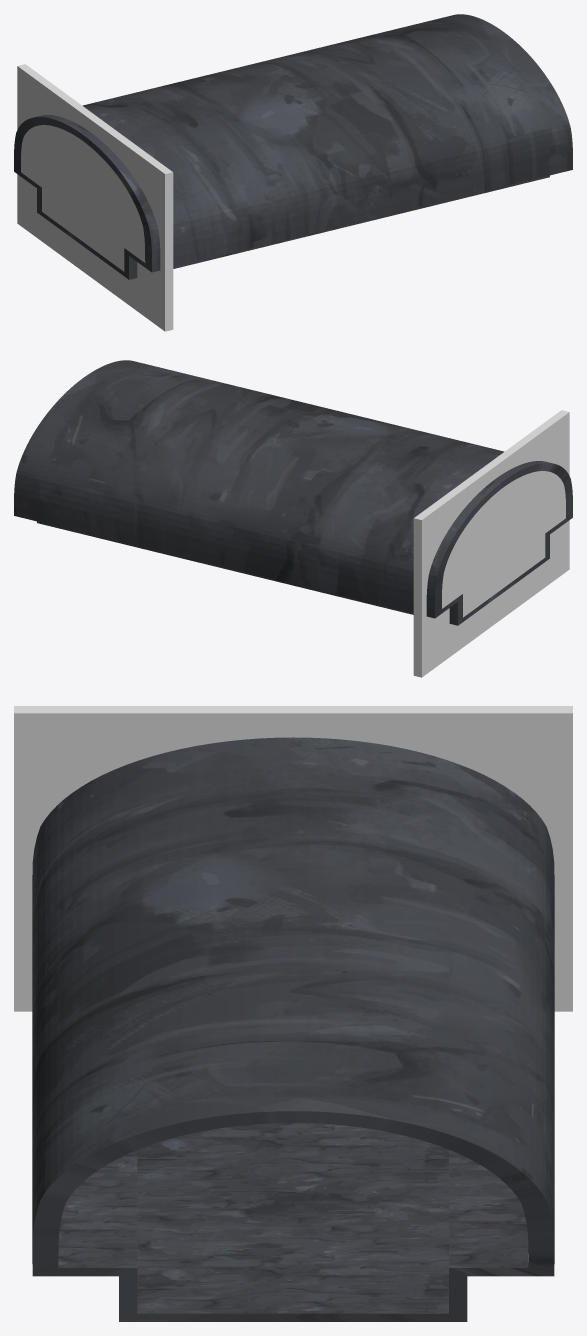
File: blindGood.fbx
3 views of the same model, one above another, from view 1: azimuth 30°, elevation 25°; view 2: azimuth 150°, elevation 25°; view 3: azimuth 270°, elevation 25° (orthographic). The views are drawn at different scales.
Visible parts, largest first — view 1: Cylinder, Cube; view 2: Cylinder, Cube; view 3: Cylinder, Cube.
Part boxes in pixels (bbox=[...]): Cylinder: bbox=[14, 14, 572, 279]; Cube: bbox=[17, 64, 173, 331]; Cylinder: bbox=[14, 360, 572, 625]; Cube: bbox=[413, 410, 569, 677]; Cylinder: bbox=[32, 737, 554, 1321]; Cube: bbox=[14, 706, 572, 1011].
Bounding box in the file's own units: 2113 × 756 × 1284.
2 materials, 1 textured.
